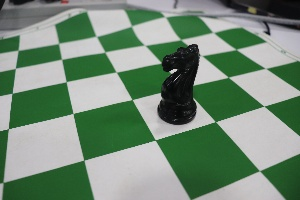black_horse: (149, 23, 201, 129)
